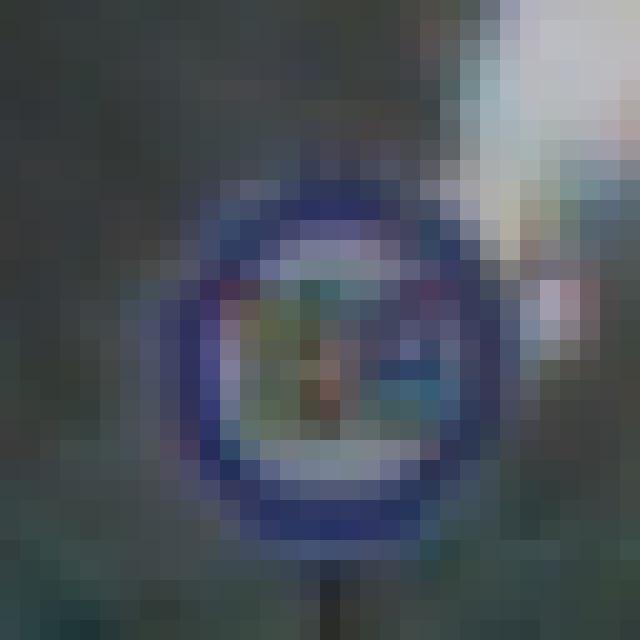SPEED LIMIT 100: (155, 179, 508, 535)
